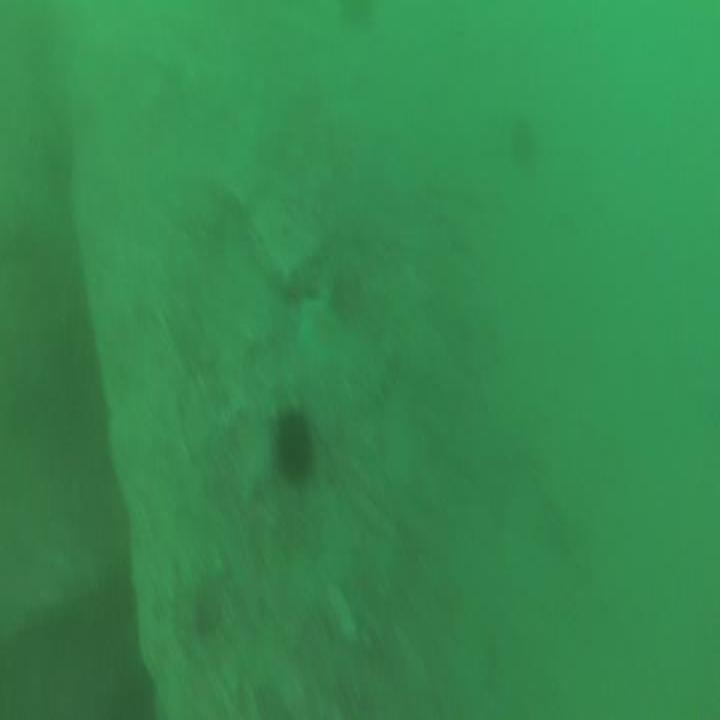echinus: (276, 416, 315, 485), (508, 110, 533, 164)
